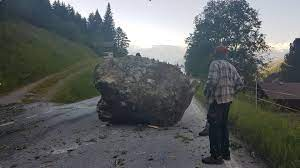obstacle: (90, 52, 200, 129)
person: (201, 46, 239, 165)
